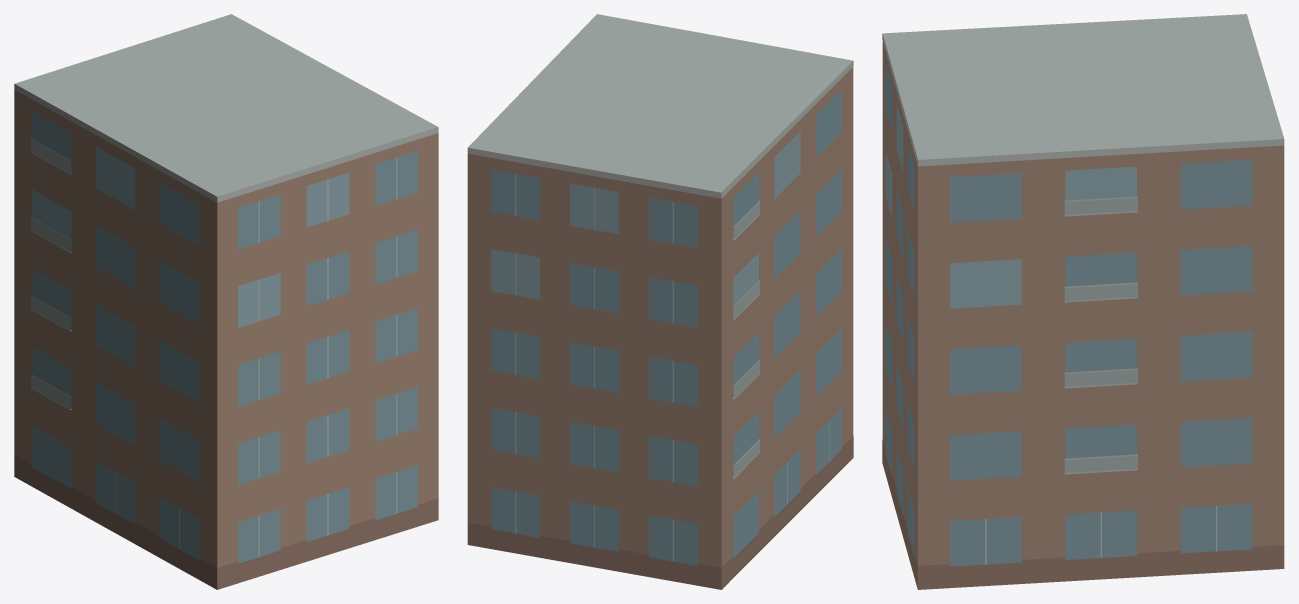
File: survey-upis-32885170.glb
The picture shows the model from 3 angles, left to right: view 1: azimuth 30°, elevation 25°; view 2: azimuth 150°, elevation 25°; view 3: azimuth 270°, elevation 25°; orthographic projection. The views are drawn at different scales.
Parts seen in each view (by area): view 1: survey-upis-32885170.tmp; view 2: survey-upis-32885170.tmp; view 3: survey-upis-32885170.tmp.
Part boxes in pixels (x1=…): survey-upis-32885170.tmp: x1=14, y1=14, x2=438, y2=589; survey-upis-32885170.tmp: x1=467, y1=14, x2=853, y2=589; survey-upis-32885170.tmp: x1=882, y1=14, x2=1284, y2=589.
Size of the model in its own units: 11.81 by 16.2 by 13.74.
